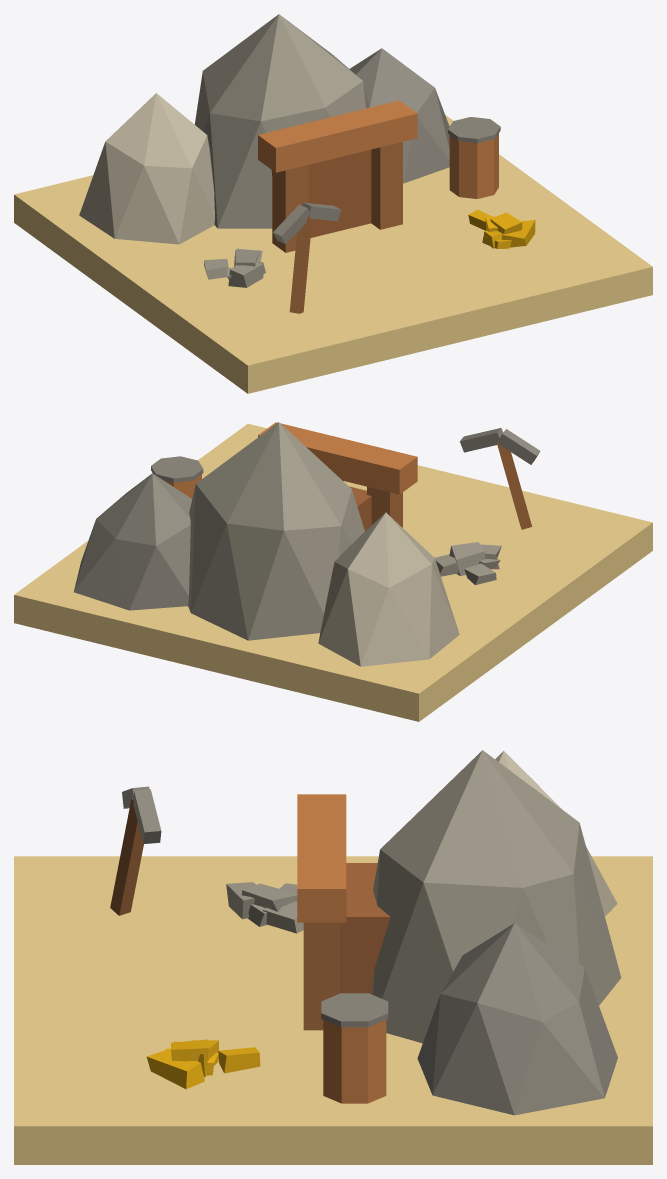
Rendered from mine_t1_v1.glb.
The picture shows the model from 3 angles, top to bottom: view 1: azimuth 30°, elevation 25°; view 2: azimuth 150°, elevation 25°; view 3: azimuth 270°, elevation 25°; orthographic projection. The views are drawn at different scales.
Visible parts, largest first — view 1: mine_t1_v1; view 2: mine_t1_v1; view 3: mine_t1_v1.
Part boxes in pixels (left/top/right/bottom): mine_t1_v1: left=14, top=14, right=652, bottom=393; mine_t1_v1: left=14, top=422, right=652, bottom=721; mine_t1_v1: left=14, top=750, right=652, bottom=1164.
Size of the model in its own units: 0.6 by 0.29 by 0.6.
Materials: 1 (1 with a texture image).
